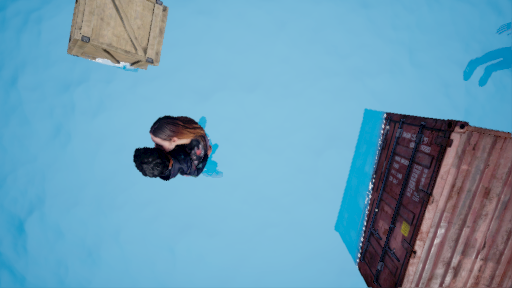person: (118, 111, 217, 184)
